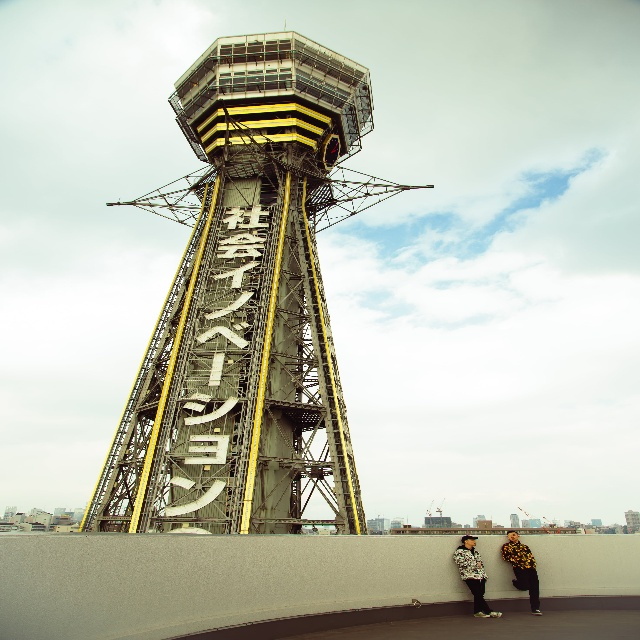Sin_guantes: (477, 562, 482, 569)
